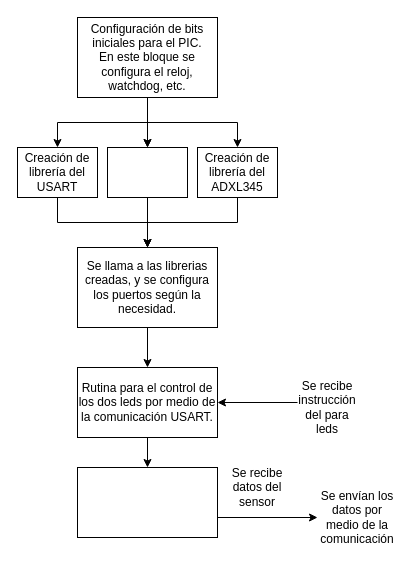
Some shapes in this 411 by 564 pixel diagram are drawn without their labels. Each missing label, with the centre of its shape:
"Creación de librería del I2C" goes at point 147,172.
"Rutina para el manejo de datos por medio de la comunicación USART para el ESP32" goes at point 147,502.
